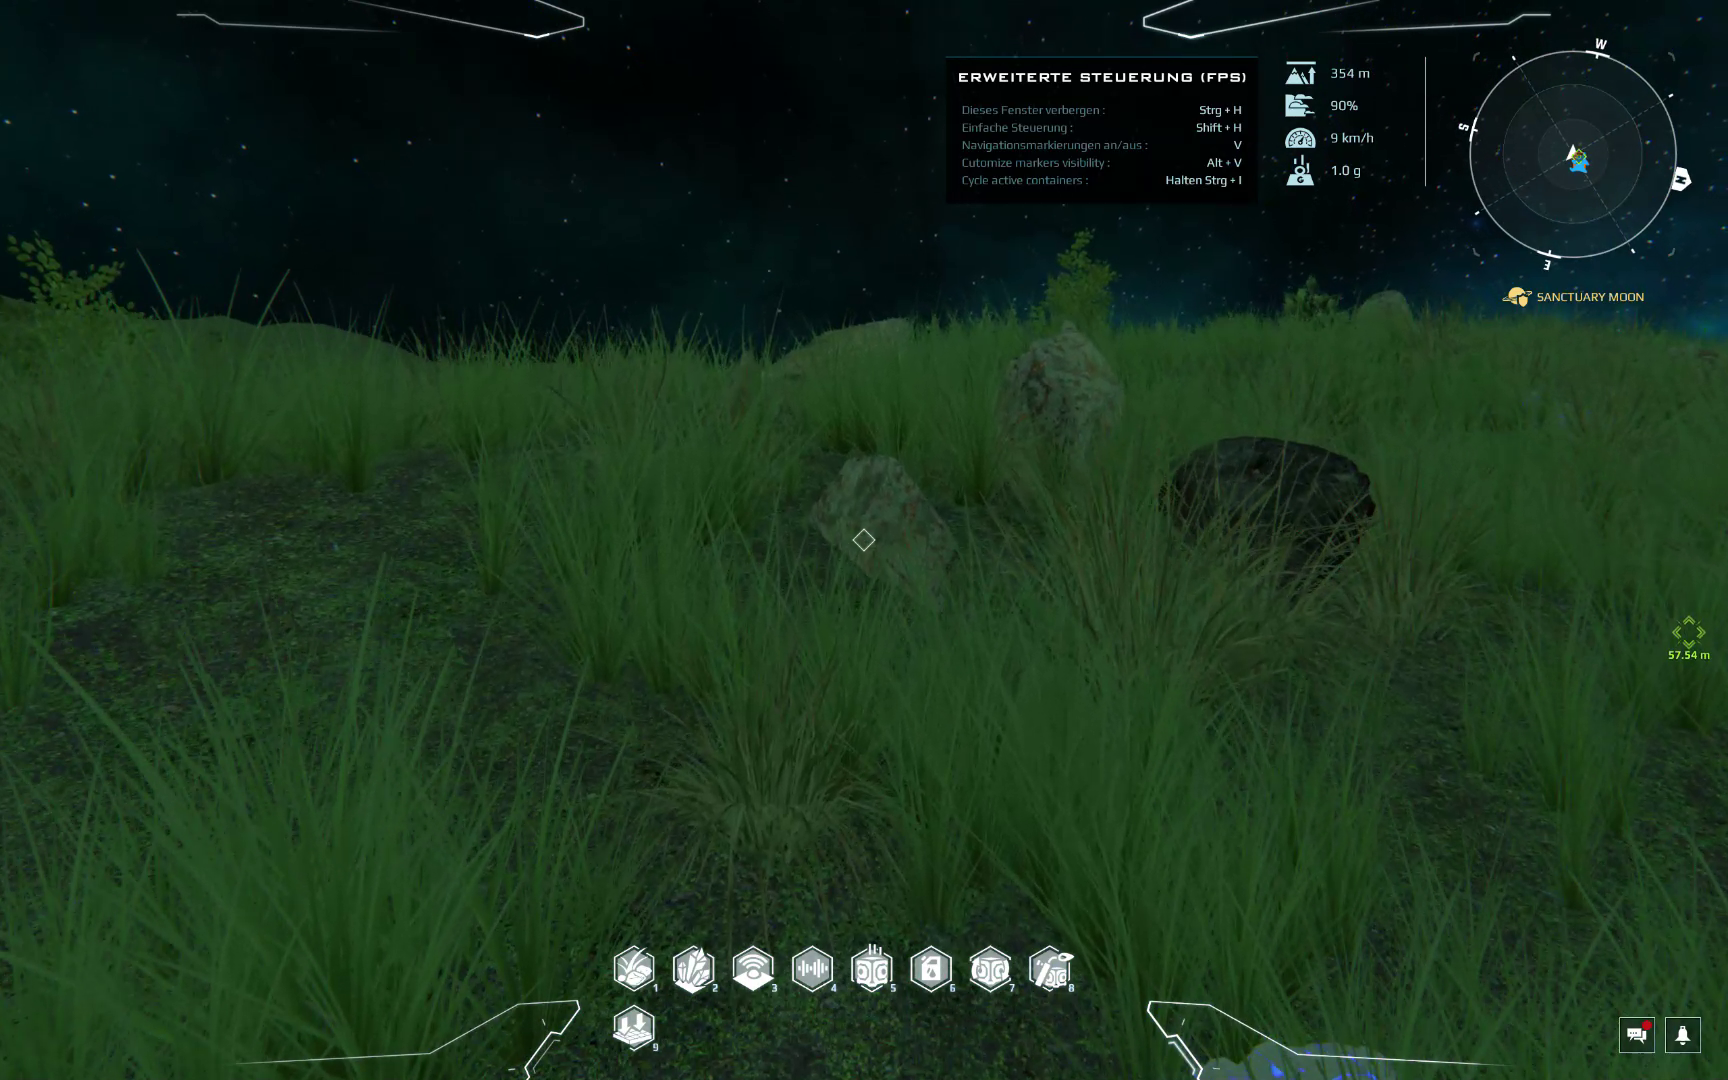Ore: (1156, 437, 1377, 589), (992, 326, 1127, 528), (811, 455, 950, 608), (1172, 1031, 1403, 1080), (765, 316, 914, 376)
